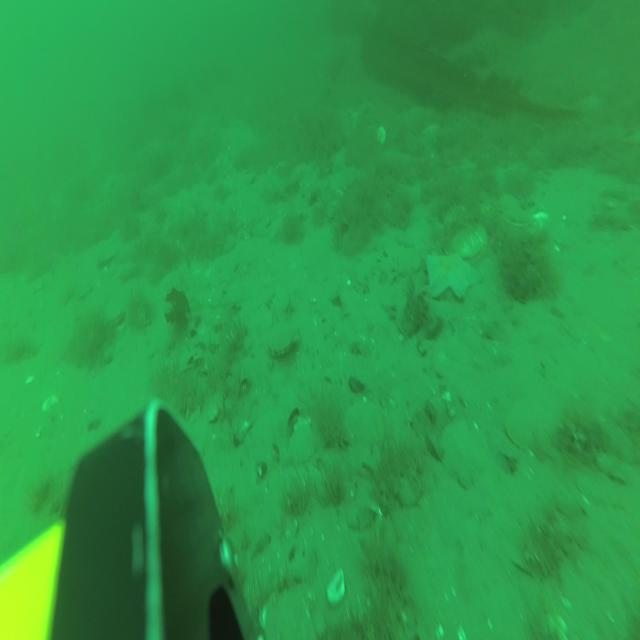scallop: (258, 575, 315, 640), (266, 317, 301, 358), (496, 189, 532, 227), (453, 223, 487, 258), (374, 124, 386, 148), (424, 122, 442, 135)
starfish: (426, 252, 478, 302)
